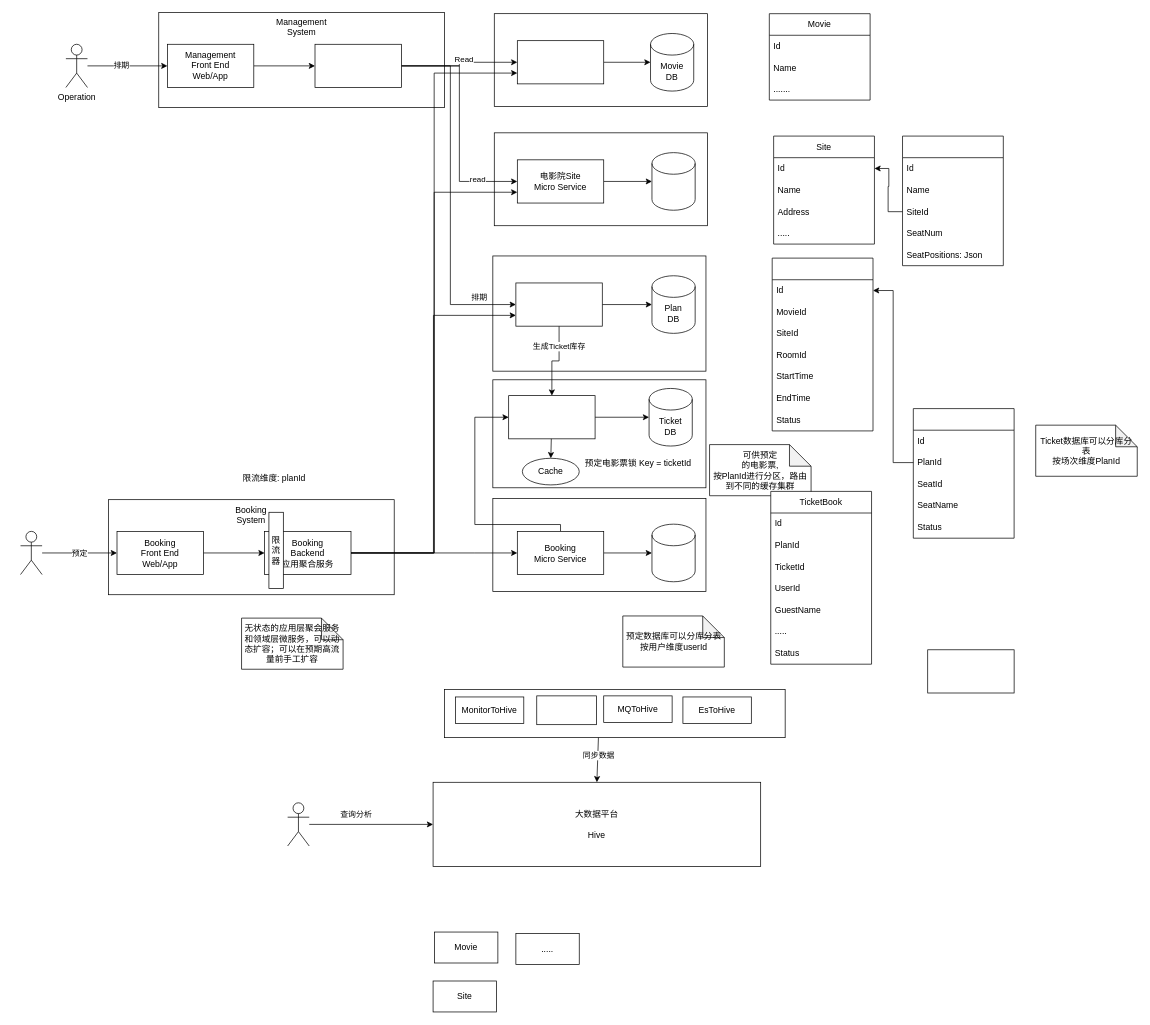
Image size: 1150x1025. Some labels were removed from this diagram. Here are the shapes that lost their labels. From the top down, the box of each, then its label:
(314, 44, 401, 87): Management Backend 应用聚合服务
(517, 40, 604, 84): Movie Micro Service
(651, 152, 695, 210): Site DB
(902, 135, 1003, 266): Room
(515, 282, 602, 326): Plan Micro Service
(771, 257, 873, 431): Plan
(508, 395, 595, 439): Ticket Micro Service
(913, 408, 1014, 538): Ticket
(20, 531, 42, 575): Customer
(651, 523, 695, 582): Booking DB
(927, 649, 1014, 693): 公共服务 User System
(536, 695, 597, 725): MySqlToHive
(287, 802, 309, 846): 商分
